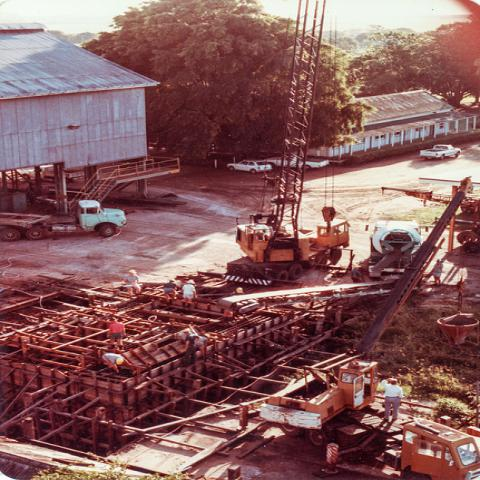car: (227, 159, 273, 174)
truck: (261, 355, 479, 476), (0, 200, 127, 241), (265, 156, 330, 171), (419, 144, 462, 160)
